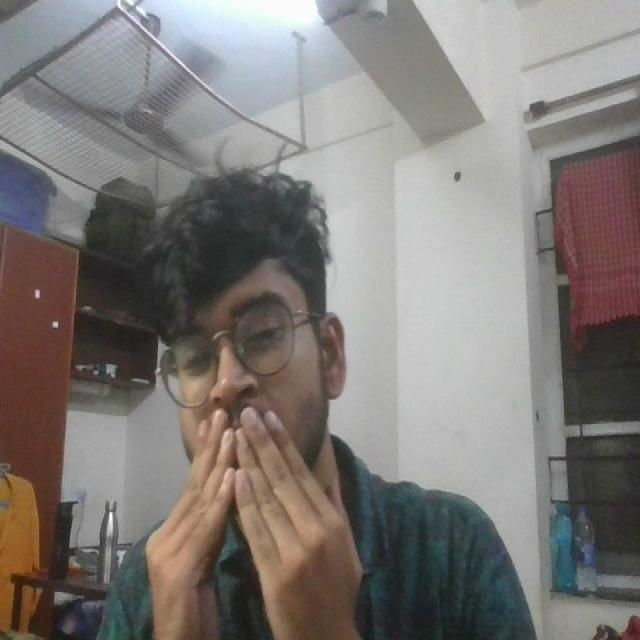Thanks: (140, 404, 385, 640)
